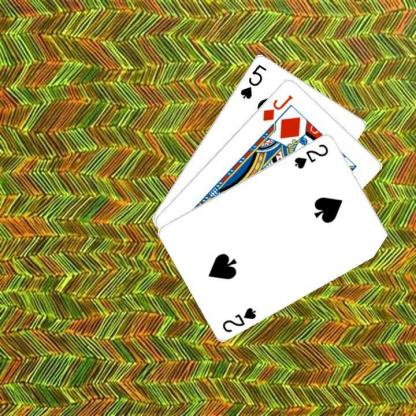2S: (220, 304, 258, 334), (292, 141, 330, 170)
5S: (238, 61, 268, 100)
JD: (260, 92, 294, 122)
